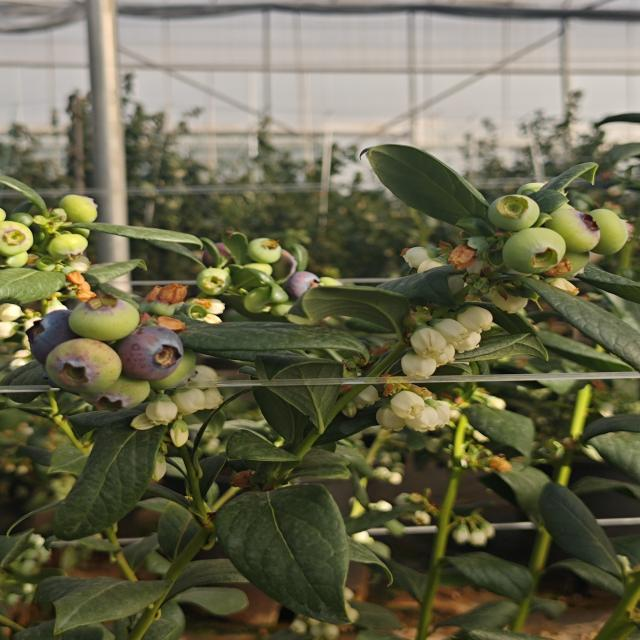ripe: (122, 326, 186, 381), (18, 311, 74, 357), (289, 268, 321, 292)
